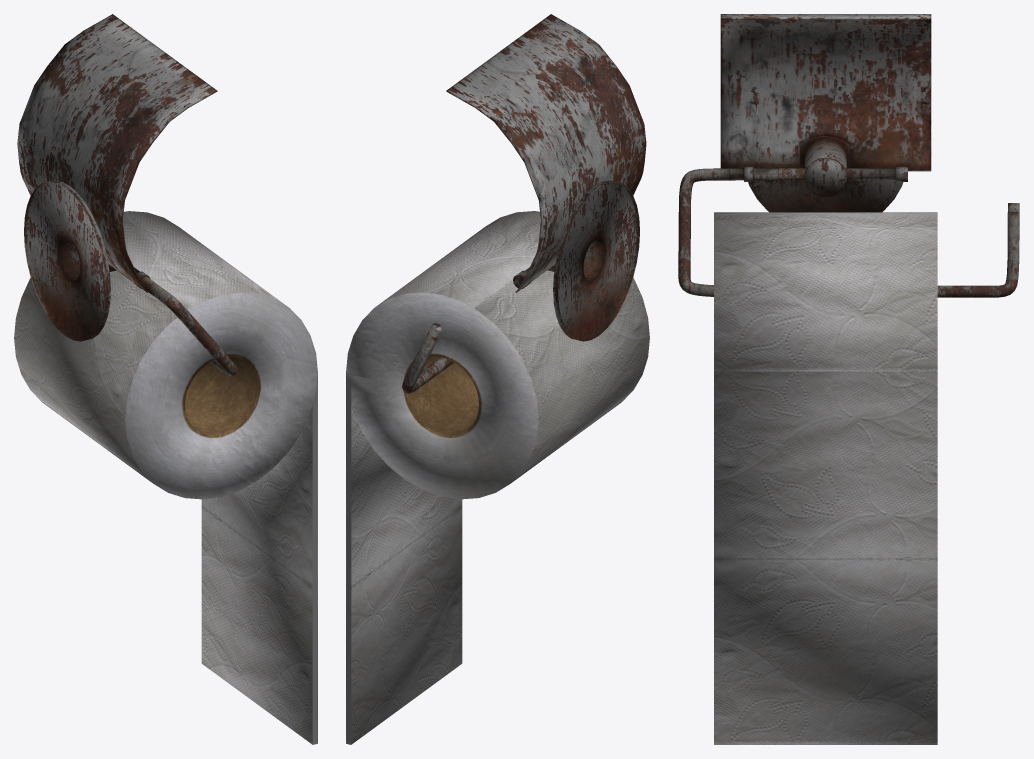
File: Toilet Roll.fbx
3 views of the same model, side by side, from view 1: azimuth 30°, elevation 25°; view 2: azimuth 150°, elevation 25°; view 3: azimuth 270°, elevation 25° (orthographic).
Parts seen in each view (by area): view 1: Simple Toilet Paper Holder Low Poly_2; view 2: Simple Toilet Paper Holder Low Poly_2; view 3: Simple Toilet Paper Holder Low Poly_2.
Boxes of the visible parts, x1,y1,x2,y2 form: Simple Toilet Paper Holder Low Poly_2: (14,14,317,744); Simple Toilet Paper Holder Low Poly_2: (346,14,649,744); Simple Toilet Paper Holder Low Poly_2: (678,14,1019,744).
Bounding box in the file's own units: 54.6 × 178 × 81.27.
1 material, 1 textured.
